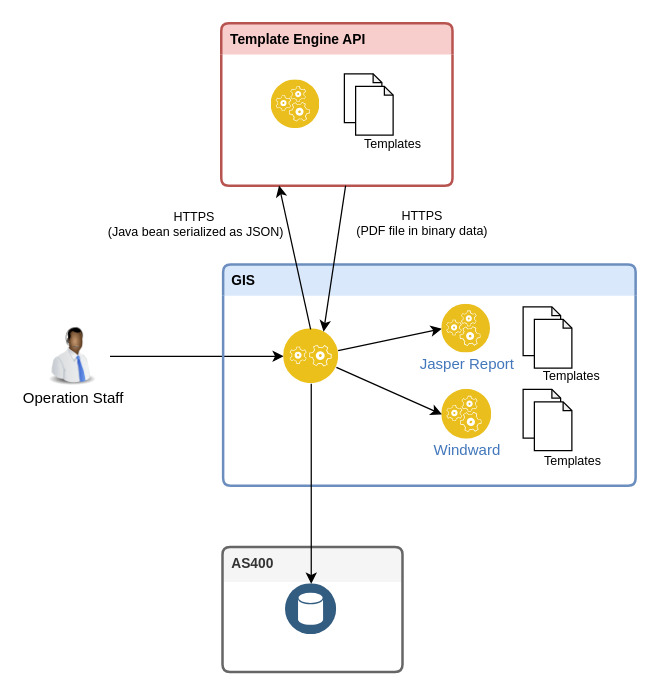
The diagram is 658 pixels wide and 694 high, and some of its shapes have lost their labels. Here are the shapes that lost their labels. From the top down, the centre of each, then its label:
At point 295,103: "Jasper Report (new version)".
At point 310,355: "Application Logic".
At point 310,608: "Data Files".
